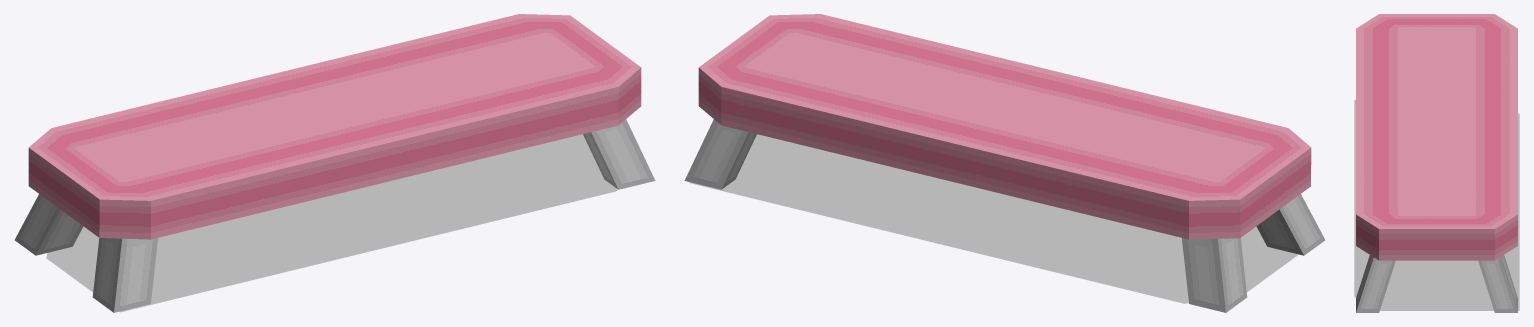
3 renders of one model, left to right at view 1: azimuth 30°, elevation 25°; view 2: azimuth 150°, elevation 25°; view 3: azimuth 270°, elevation 25°, orthographic. The views are drawn at different scales.
Parts seen in each view (by area): view 1: polygon0, polygon1; view 2: polygon0, polygon1; view 3: polygon0, polygon1.
Boxes of the visible parts, x1,y1,x2,y2 form: polygon0: (14, 14, 655, 312); polygon1: (46, 134, 617, 312); polygon0: (684, 14, 1325, 312); polygon1: (689, 134, 1298, 303); polygon0: (1356, 14, 1517, 312); polygon1: (1354, 100, 1519, 310).
Bounding box in the file's own units: 11 × 2 × 3.57.
